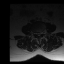CCS_normal: (37, 31, 39, 38)
LFS_normal: (41, 30, 43, 35)
LLS_normal: (39, 31, 41, 36)
RFS_normal: (34, 30, 36, 36)
RLS_stenosis: (36, 31, 37, 36)
